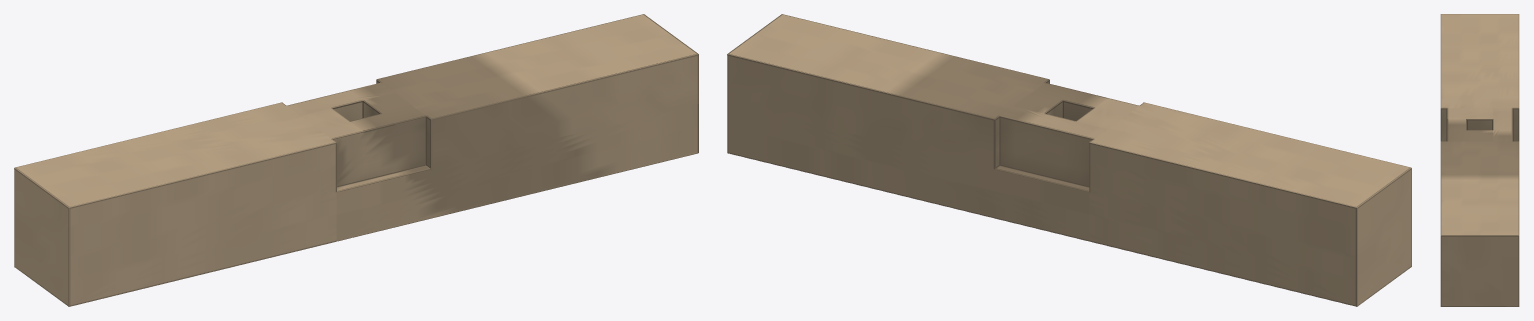
The model's file is girder-x.glb.
3 renders of one model, left to right at view 1: azimuth 30°, elevation 25°; view 2: azimuth 150°, elevation 25°; view 3: azimuth 270°, elevation 25°, orthographic. The views are drawn at different scales.
Visible parts, largest first — view 1: girder-x; view 2: girder-x; view 3: girder-x.
Part boxes in pixels (x1,y1,x2,y2): girder-x: (14, 14, 698, 306); girder-x: (727, 14, 1411, 306); girder-x: (1440, 14, 1519, 306).
Bounding box in the file's own units: 0.8008 × 0.1208 × 0.1208.
